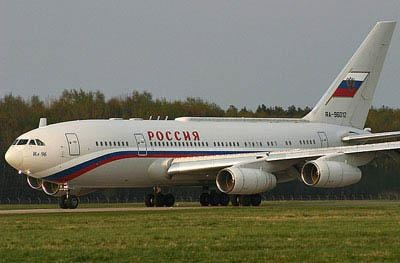airplane: (4, 16, 400, 204)
